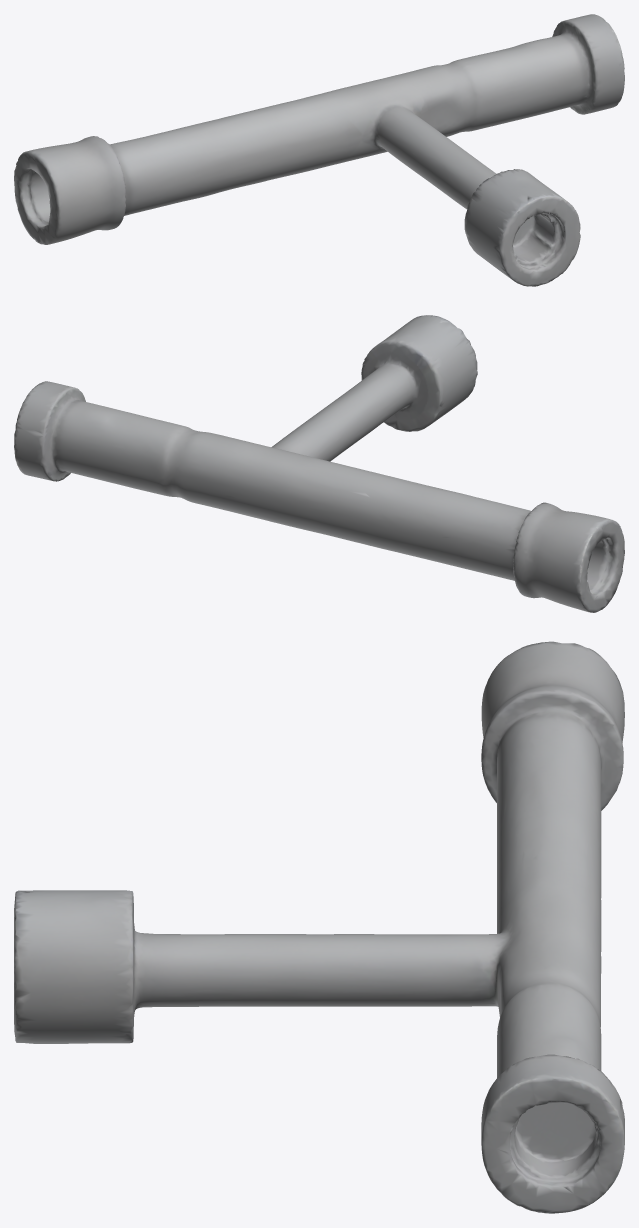
Rendered from base_basic_pbr.glb.
The picture shows the model from 3 angles, top to bottom: view 1: azimuth 30°, elevation 25°; view 2: azimuth 150°, elevation 25°; view 3: azimuth 270°, elevation 25°; orthographic projection. The views are drawn at different scales.
Visible parts, largest first — view 1: model; view 2: model; view 3: model.
Part boxes in pixels (x1,y1,x2,y2): model: (14,14,624,286); model: (14,315,624,612); model: (14,641,624,1213).
Size of the model in its own units: 1.9 by 0.2838 by 1.12.
Materials: 1 (1 with a texture image).
